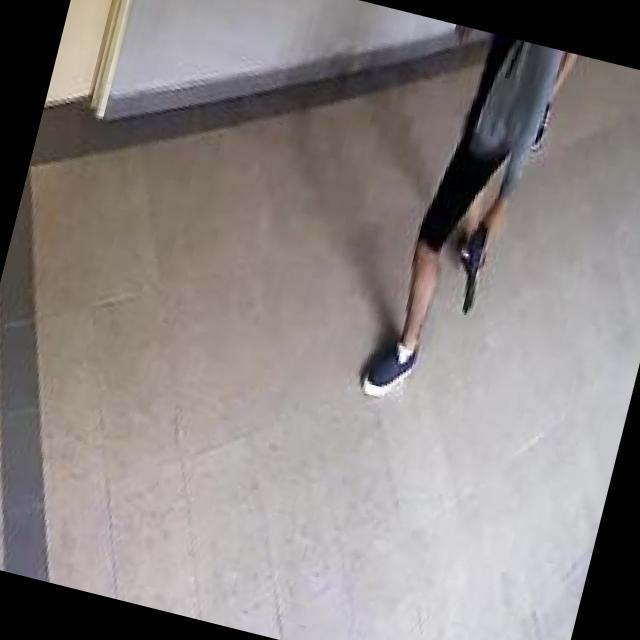Guns: (444, 199, 509, 328)
